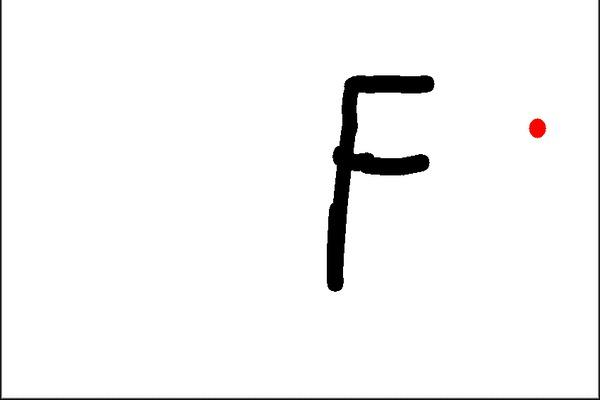F: (321, 70, 436, 297)
